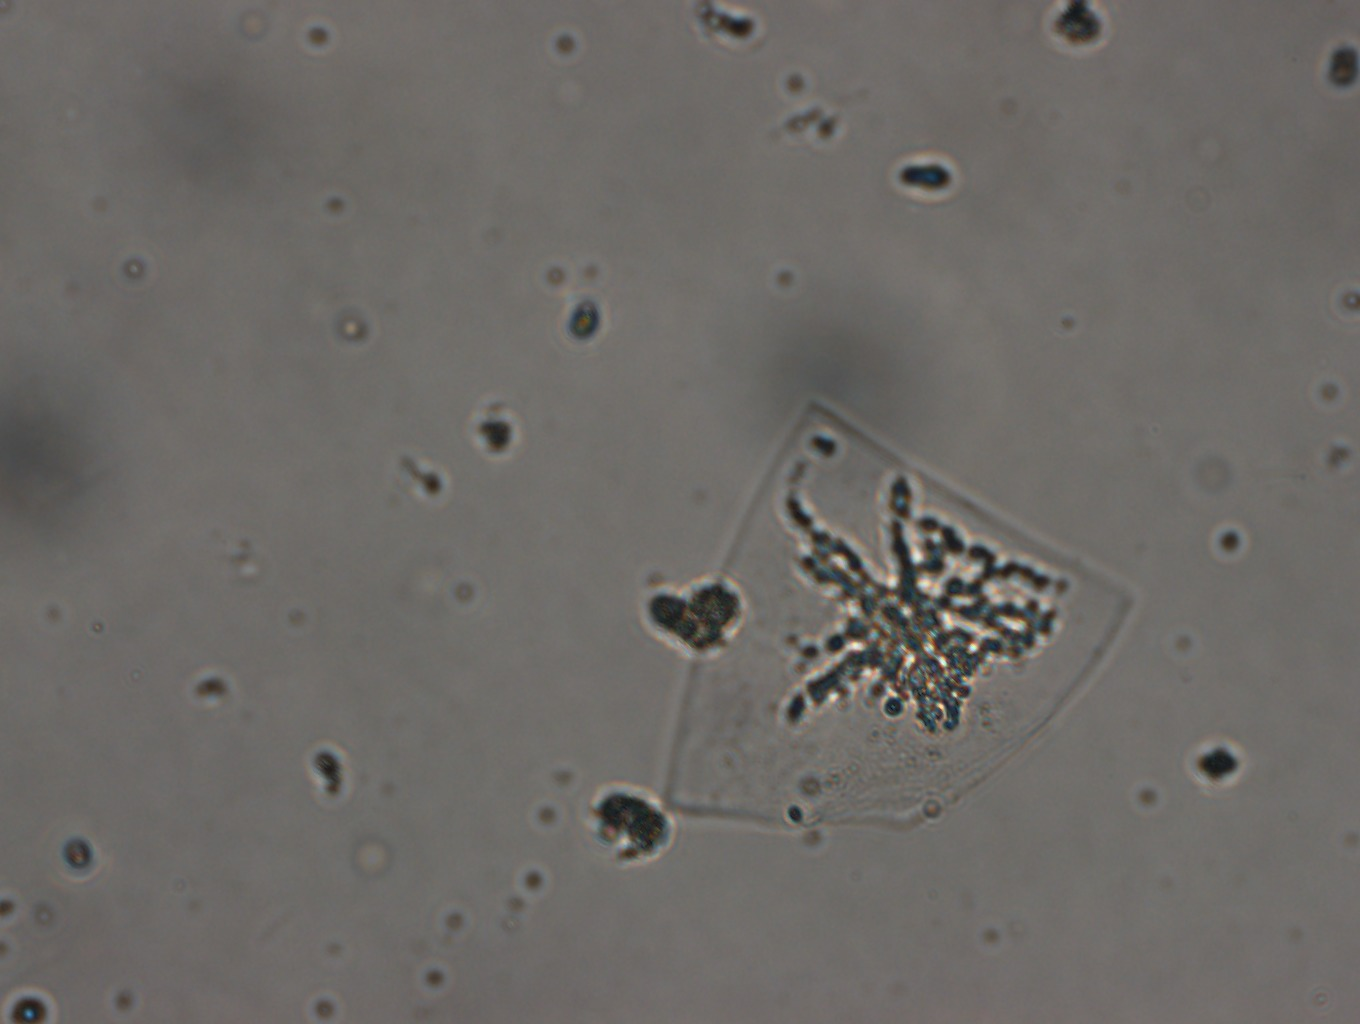helicotheca: (644, 398, 1139, 835)
